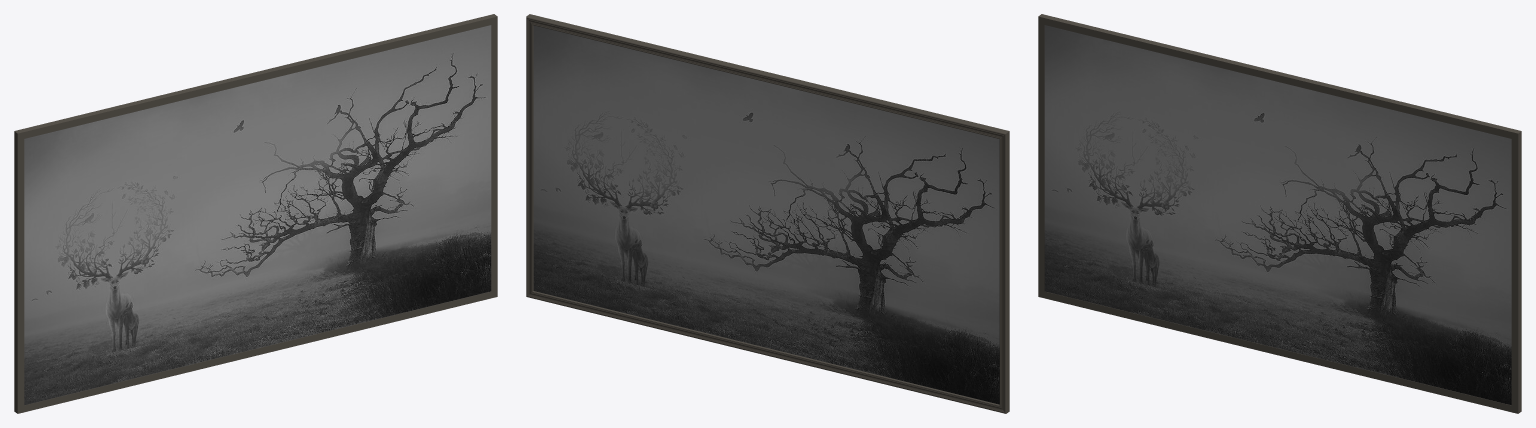
File: pic.glb
3 views of the same model, side by side, from view 1: azimuth 30°, elevation 25°; view 2: azimuth 150°, elevation 25°; view 3: azimuth 330°, elevation 25° (orthographic).
Visible parts, largest first — view 1: Obj3d66-812022-160-261, Obj3d66-812022-159-200; view 2: Obj3d66-812022-160-261, Obj3d66-812022-159-200; view 3: Obj3d66-812022-160-261, Obj3d66-812022-159-200.
Part boxes in pixels (x1,y1,x2,y2): Obj3d66-812022-160-261: [24, 25, 491, 405]; Obj3d66-812022-159-200: [14, 14, 497, 413]; Obj3d66-812022-160-261: [533, 25, 999, 404]; Obj3d66-812022-159-200: [526, 14, 1009, 413]; Obj3d66-812022-160-261: [1044, 25, 1511, 405]; Obj3d66-812022-159-200: [1038, 14, 1521, 413].
Bounding box in the file's own units: 1.16 × 0.6483 × 0.0163.
2 materials, 1 textured.
